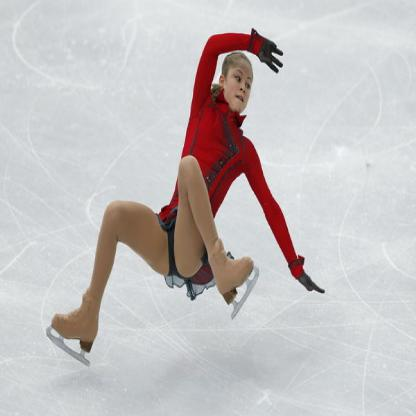Fall_Down: (50, 25, 327, 343)
